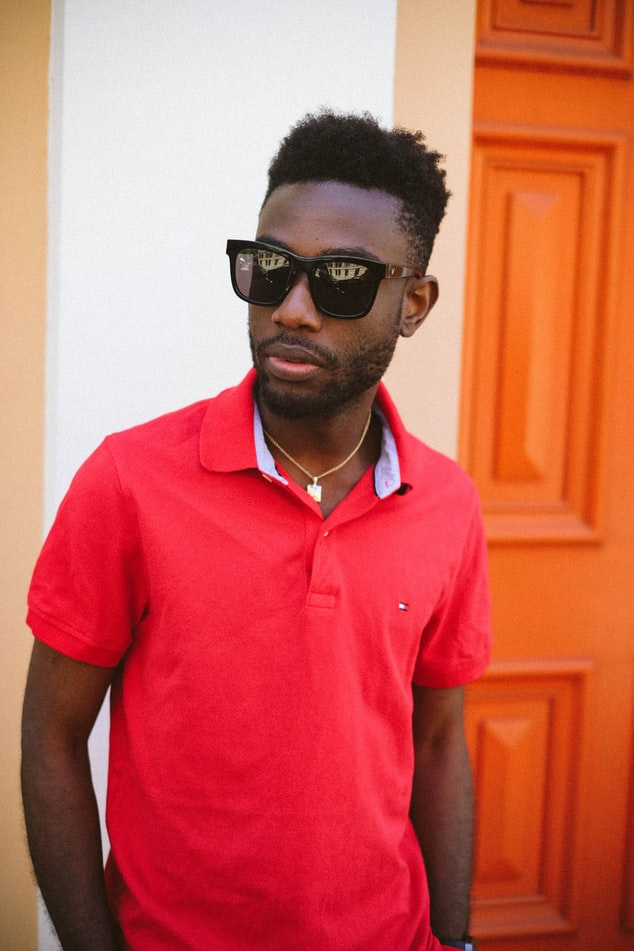beard: (247, 333, 398, 421)
glasses: (220, 238, 396, 330)
